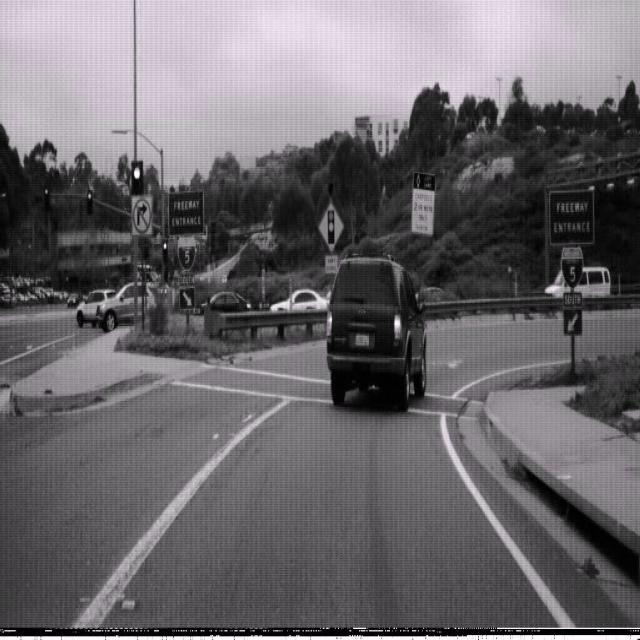noRightTurn: (131, 195, 152, 234)
